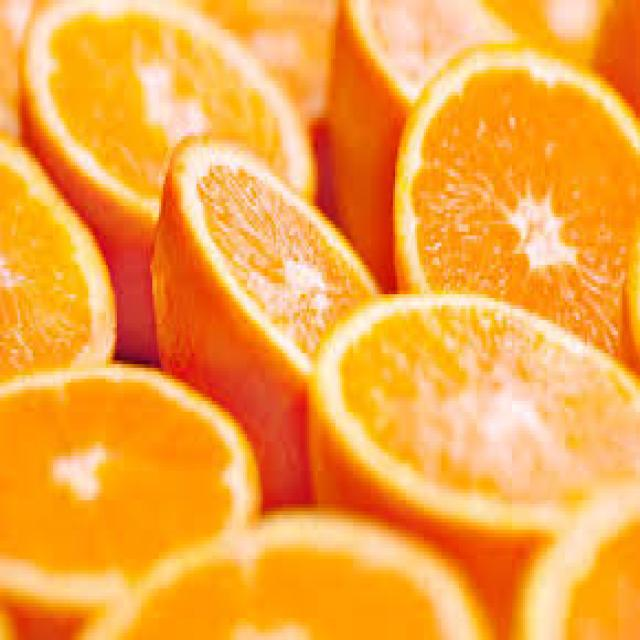orange: (147, 128, 372, 470)
